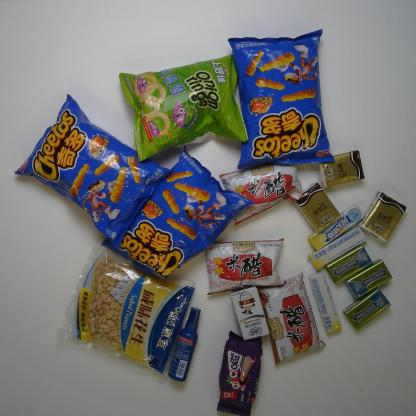Candy: (308, 204, 366, 251), (307, 225, 366, 270), (308, 271, 343, 334)
Dessert: (216, 330, 262, 416)
Dried Fruit: (55, 241, 196, 374)
Gum: (342, 286, 392, 330), (345, 258, 393, 300), (325, 244, 373, 284)
Milk: (230, 285, 270, 341)
Personal Hygiene: (167, 306, 201, 382)
Puffed Food: (12, 93, 174, 250), (100, 143, 256, 280), (226, 29, 335, 172), (118, 54, 249, 163)
Seasoner: (255, 271, 327, 365), (219, 163, 304, 226), (204, 238, 287, 295)
Tissue: (358, 191, 407, 243), (294, 182, 341, 232), (316, 150, 366, 189)
